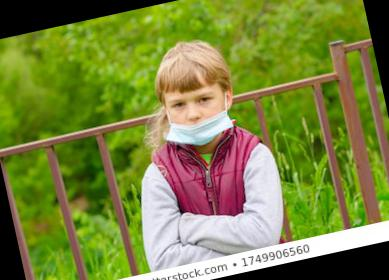mask_weared_incorrect: (166, 88, 229, 149)
